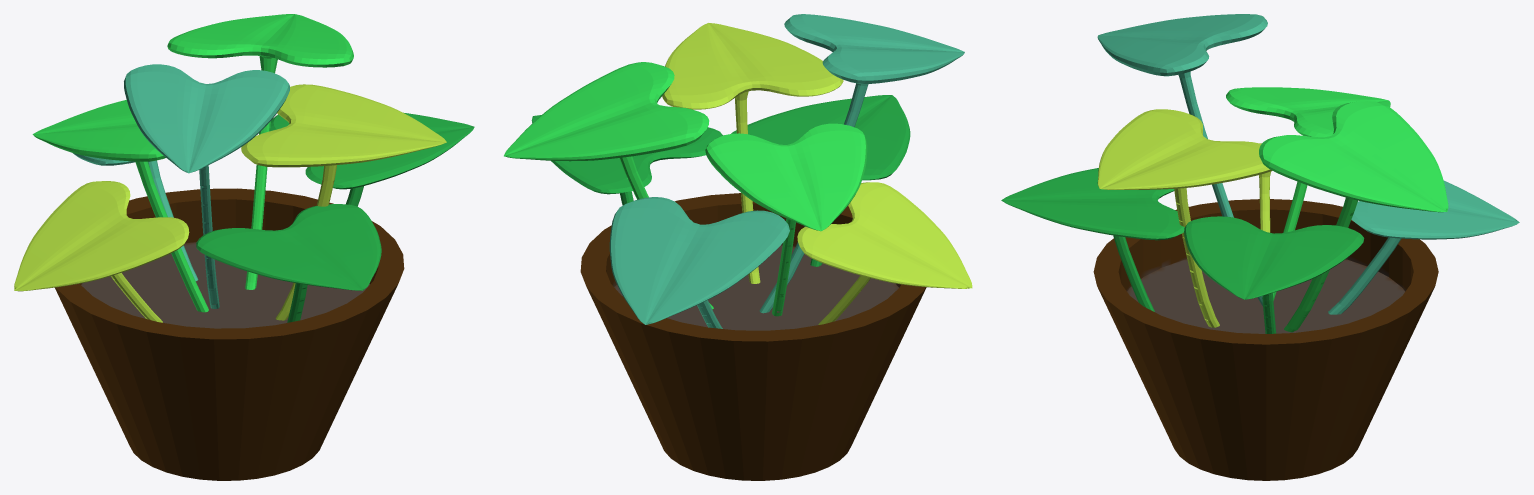
The model's file is Potted plant.fbx.
3 renders of one model, left to right at view 1: azimuth 30°, elevation 25°; view 2: azimuth 150°, elevation 25°; view 3: azimuth 270°, elevation 25°, orthographic. The views are drawn at different scales.
Visible parts, largest first — view 1: Cylinder.004, Cube.021, Cube.017, Cube.018, Cube.015, Cube.019, Cube.020, Cube.014, Cube.016; view 2: Cylinder.004, Cube.016, Cube.019, Cube.020, Cube.017, Cube.018, Cube.021, Cube.015, Cube.014; view 3: Cylinder.004, Cube.019, Cube.018, Cube.014, Cube.015, Cube.021, Cube.016, Cube.020, Cube.017.
Part boxes in pixels (<box>): Cylinder.004: <box>55,188,404,480</box>; Cube.021: <box>124,64,289,308</box>; Cube.017: <box>14,181,189,322</box>; Cube.018: <box>241,84,446,320</box>; Cube.015: <box>196,204,381,322</box>; Cube.019: <box>167,14,353,289</box>; Cube.020: <box>32,100,208,312</box>; Cube.014: <box>269,112,474,206</box>; Cube.016: <box>73,153,198,280</box>; Cylinder.004: <box>580,193,926,480</box>; Cube.016: <box>609,197,789,328</box>; Cube.019: <box>504,62,713,309</box>; Cube.020: <box>705,123,867,316</box>; Cube.017: <box>797,182,972,324</box>; Cube.018: <box>662,23,843,283</box>; Cube.021: <box>759,14,964,313</box>; Cube.015: <box>731,95,910,266</box>; Cube.014: <box>531,115,722,205</box>; Cylinder.004: <box>1093,199,1438,480</box>; Cube.019: <box>1259,101,1448,332</box>; Cube.018: <box>1097,109,1272,327</box>; Cube.014: <box>1184,216,1364,333</box>; Cube.015: <box>1001,168,1184,311</box>; Cube.021: <box>1097,14,1267,305</box>; Cube.016: <box>1328,180,1519,314</box>; Cube.020: <box>1226,87,1390,300</box>; Cube.017: <box>1259,143,1271,232</box>.
Size of the model in its own units: 120 by 101 by 124.
